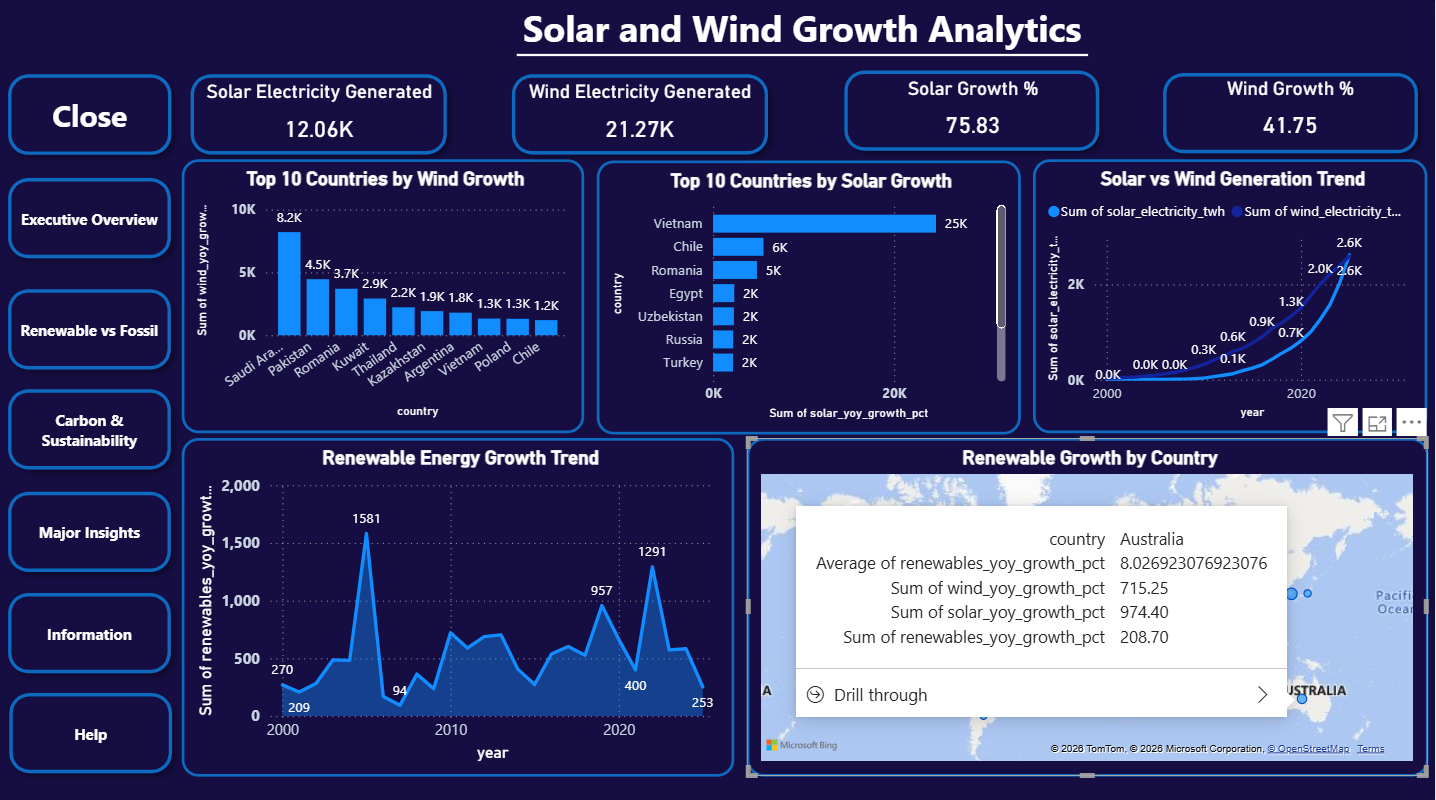

The dashboard page shown, as its layout file describes it:
{"tool":"powerbi","page":{"name":"Solar and Wind Growth Analysis","canvas":[1280,720],"ordinal":2},"visuals":[{"type":"textbox","box":[409.2,0,613.1,53.5],"z":0},{"type":"shape","box":[162.9,59.1,246.1,89.3],"z":1000},{"type":"shape","box":[462.1,27.7,509.1,45.8],"z":2000},{"type":"lineChart","title":"Solar vs Wind Generation Trend","fields":{"Category":["GlobalRenewableEnergy.year"],"Y":["Sum(GlobalRenewableEnergy.solar_electricity_twh)","Sum(GlobalRenewableEnergy.wind_electricity_twh)"]},"box":[922.1,144.1,351.3,244.3],"z":3000},{"type":"clusteredColumnChart","title":"Top 10 Countries by Wind Growth","fields":{"Category":["GlobalRenewableEnergy.country"],"Y":["Sum(GlobalRenewableEnergy.wind_yoy_growth_pct)"]},"box":[164.1,143.6,358.3,243.7],"z":4000},{"type":"areaChart","title":"Renewable Energy Growth Trend","fields":{"Category":["GlobalRenewableEnergy.year"],"Y":["Sum(GlobalRenewableEnergy.renewables_yoy_growth_pct)"]},"box":[164.1,392.1,492.2,301.6],"z":5000},{"type":"clusteredBarChart","title":"Top 10 Countries by Solar Growth","fields":{"Category":["GlobalRenewableEnergy.country"],"Y":["Sum(GlobalRenewableEnergy.solar_yoy_growth_pct)"]},"box":[533.2,144.8,377.6,243.7],"z":6000},{"type":"card","title":"Solar Electricity Generated","fields":{"Values":["Sum(GlobalRenewableEnergy.solar_electricity_twh)"]},"box":[177.3,73.6,218.4,66.4],"z":7000},{"type":"map","title":"Renewable Growth by Country","fields":{"Category":["GlobalRenewableEnergy.country"],"Size":["Avg(GlobalRenewableEnergy.renewables_yoy_growth_pct)"]},"box":[667.2,392.1,606.8,301.6],"z":8000},{"type":"shape","box":[448.8,59.1,246.1,89.3],"z":12000},{"type":"shape","box":[744.4,55.5,244.9,89.3],"z":13000},{"type":"shape","box":[1029.1,57.9,244.9,89.3],"z":14000},{"type":"card","title":"Wind Electricity Generated","fields":{"Values":["Sum(GlobalRenewableEnergy.wind_electricity_twh)"]},"box":[462.1,73.6,219.6,66.4],"z":15000},{"type":"card","title":"Solar Growth %","fields":{"Values":["Avg(GlobalRenewableEnergy.solar_yoy_growth_pct)"]},"box":[758.9,70,218.4,66.4],"z":16000},{"type":"card","title":"Wind Growth %","fields":{"Values":["Avg(GlobalRenewableEnergy.wind_yoy_growth_pct)"]},"box":[1042.4,70,218.4,66.4],"z":17000},{"type":"shape","title":"menu open 3","box":[0,54.9,162,89.7],"z":18000}]}

Visuals, with their boxes in screenshot pixels (x1, y1, x2, y2), scaled from the page's 1280x720 canvas onto the 1436x800 screenshot:
textbox: region(459, 0, 1147, 59)
shape: region(183, 66, 459, 165)
shape: region(518, 31, 1090, 82)
"Solar vs Wind Generation Trend" lineChart: region(1034, 160, 1429, 432)
"Top 10 Countries by Wind Growth" clusteredColumnChart: region(184, 160, 586, 430)
"Renewable Energy Growth Trend" areaChart: region(184, 436, 736, 771)
"Top 10 Countries by Solar Growth" clusteredBarChart: region(598, 161, 1022, 432)
"Solar Electricity Generated" card: region(199, 82, 444, 156)
"Renewable Growth by Country" map: region(749, 436, 1429, 771)
shape: region(503, 66, 780, 165)
shape: region(835, 62, 1110, 161)
shape: region(1155, 64, 1429, 164)
"Wind Electricity Generated" card: region(518, 82, 765, 156)
"Solar Growth %" card: region(851, 78, 1096, 152)
"Wind Growth %" card: region(1169, 78, 1414, 152)
"menu open 3" shape: region(0, 61, 182, 161)
